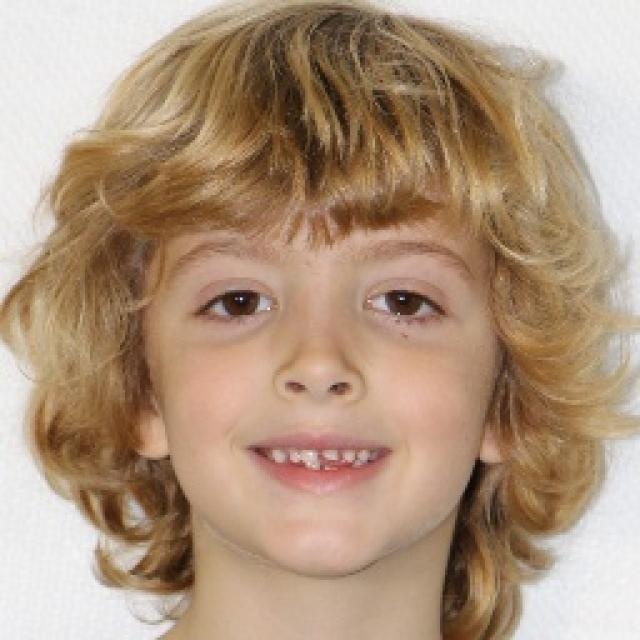earlobe: (126, 416, 170, 459), (475, 423, 513, 467)
eye: (358, 284, 447, 323), (198, 285, 281, 322)
nose: (281, 384, 361, 429)
